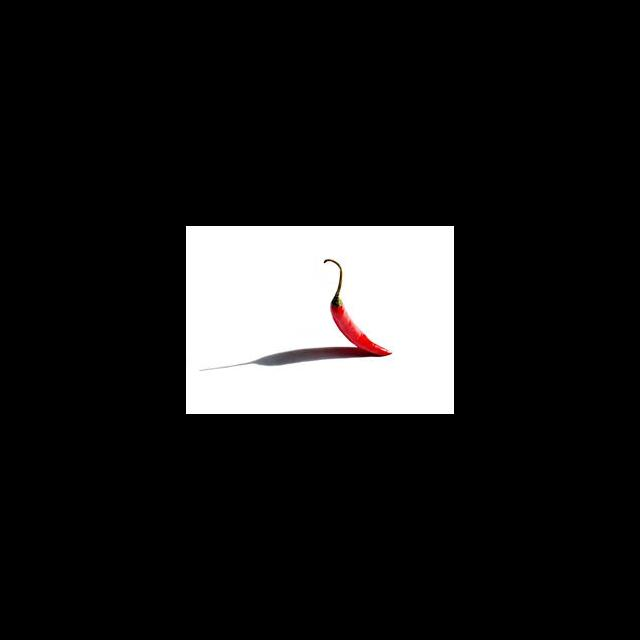chili_pepper: (330, 260, 392, 357)
